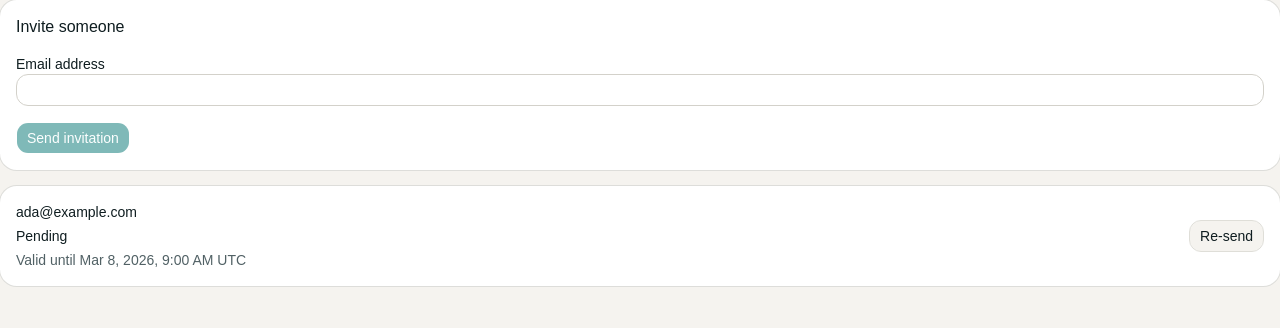
Test case: InvitationsAdminPage › re-sends a pending invitation
Click the button with aria-label "Re-send the invitation to ada@example.com". click: (1227, 236)
box: x1=1189 y1=220 x2=1264 y2=252
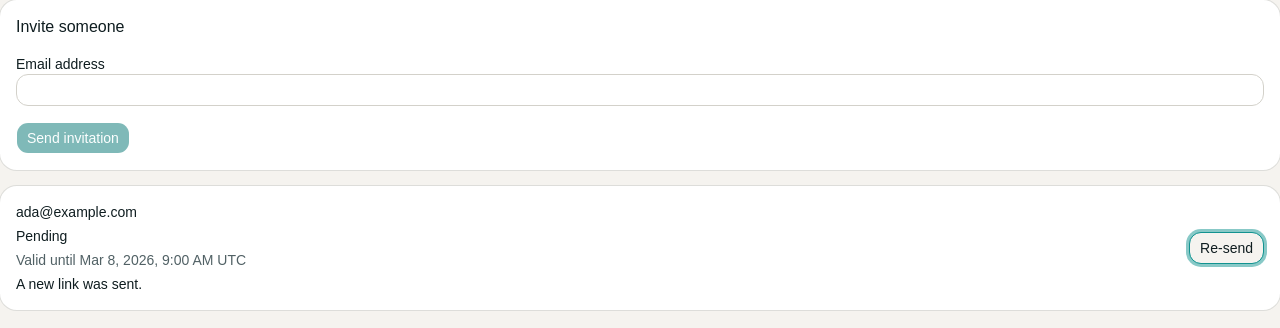
Result: the message reads "A new link was sent." at x1=16 y1=276 x2=142 y2=292
